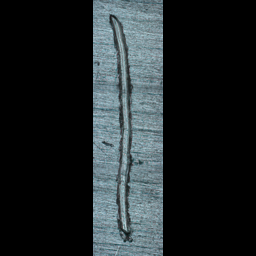d: (107, 13, 139, 245)
